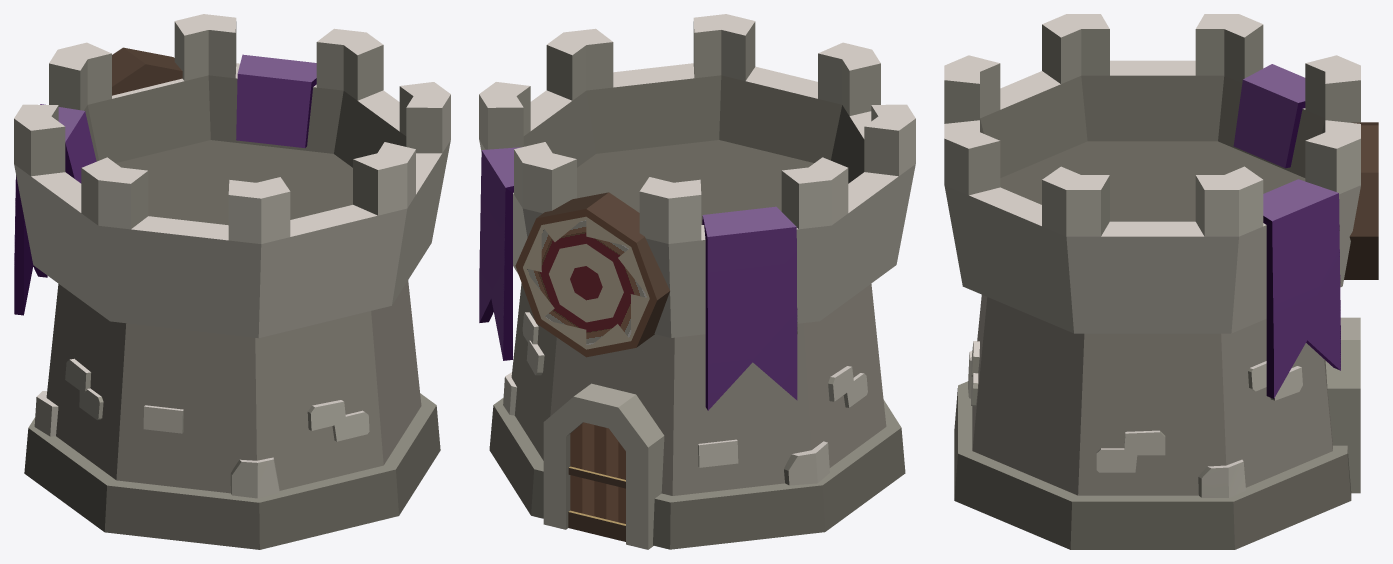
The model's file is ArcherTower_Lv2.obj.
3 renders of one model, left to right at view 1: azimuth 30°, elevation 25°; view 2: azimuth 150°, elevation 25°; view 3: azimuth 270°, elevation 25°, orthographic. The views are drawn at different scales.
Visible parts, largest first — view 1: ArcherTower_Lv2; view 2: ArcherTower_Lv2; view 3: ArcherTower_Lv2.
Part boxes in pixels (x1=…): ArcherTower_Lv2: x1=14, y1=14, x2=450, y2=549; ArcherTower_Lv2: x1=479, y1=14, x2=915, y2=549; ArcherTower_Lv2: x1=944, y1=14, x2=1378, y2=549.
Size of the model in its own units: 6.48 by 6.27 by 6.76.
Materials: 1 (1 with a texture image).
